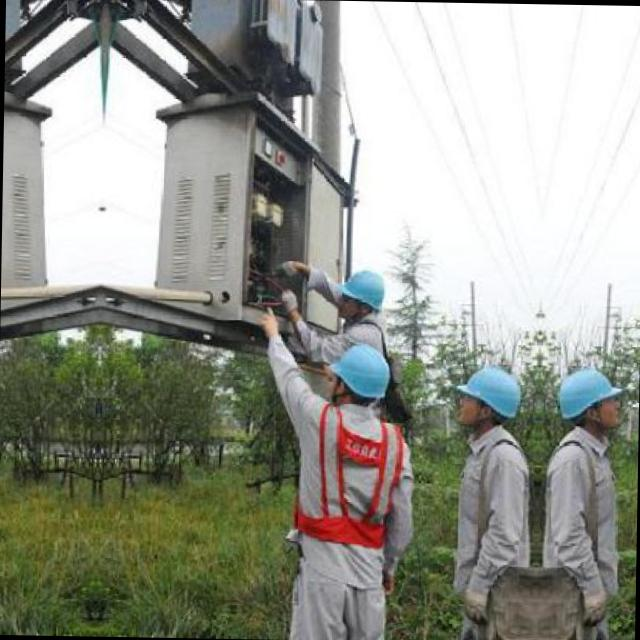helmet: (324, 336, 390, 414), (452, 364, 520, 439), (556, 366, 623, 440), (332, 260, 389, 336)
